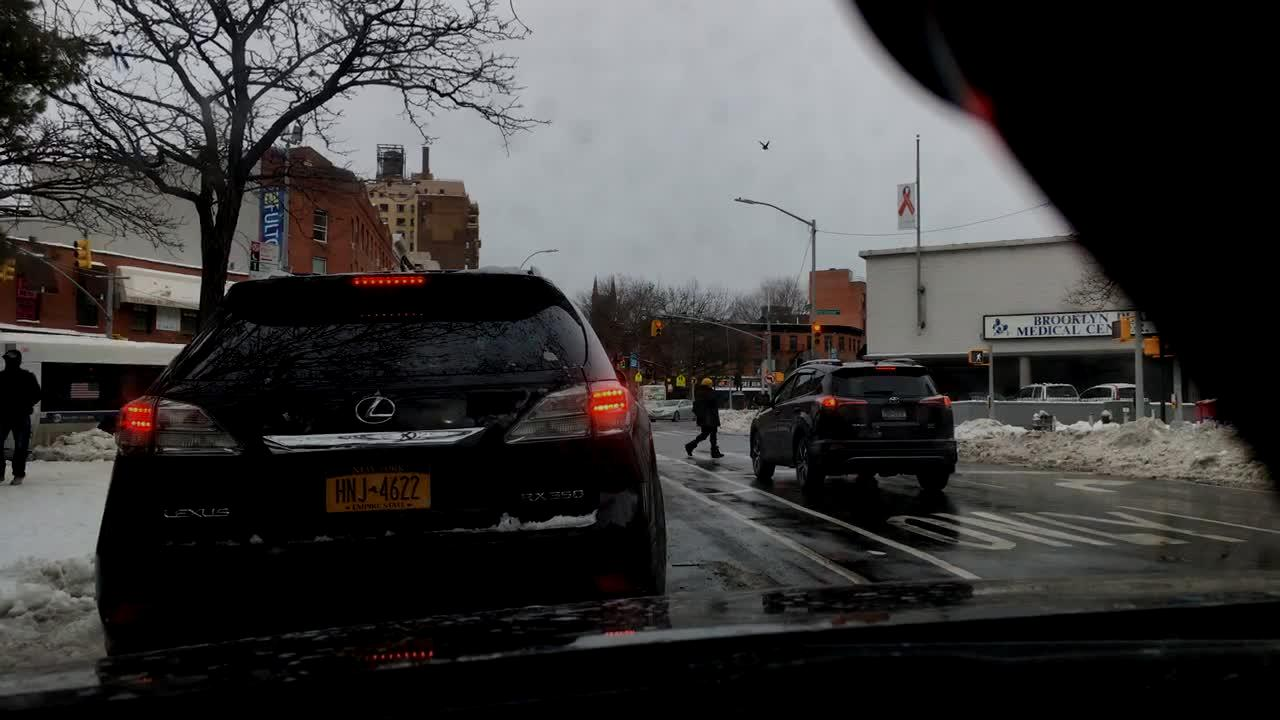Toyota: (886, 395, 904, 405)
lexus: (338, 385, 411, 436)
